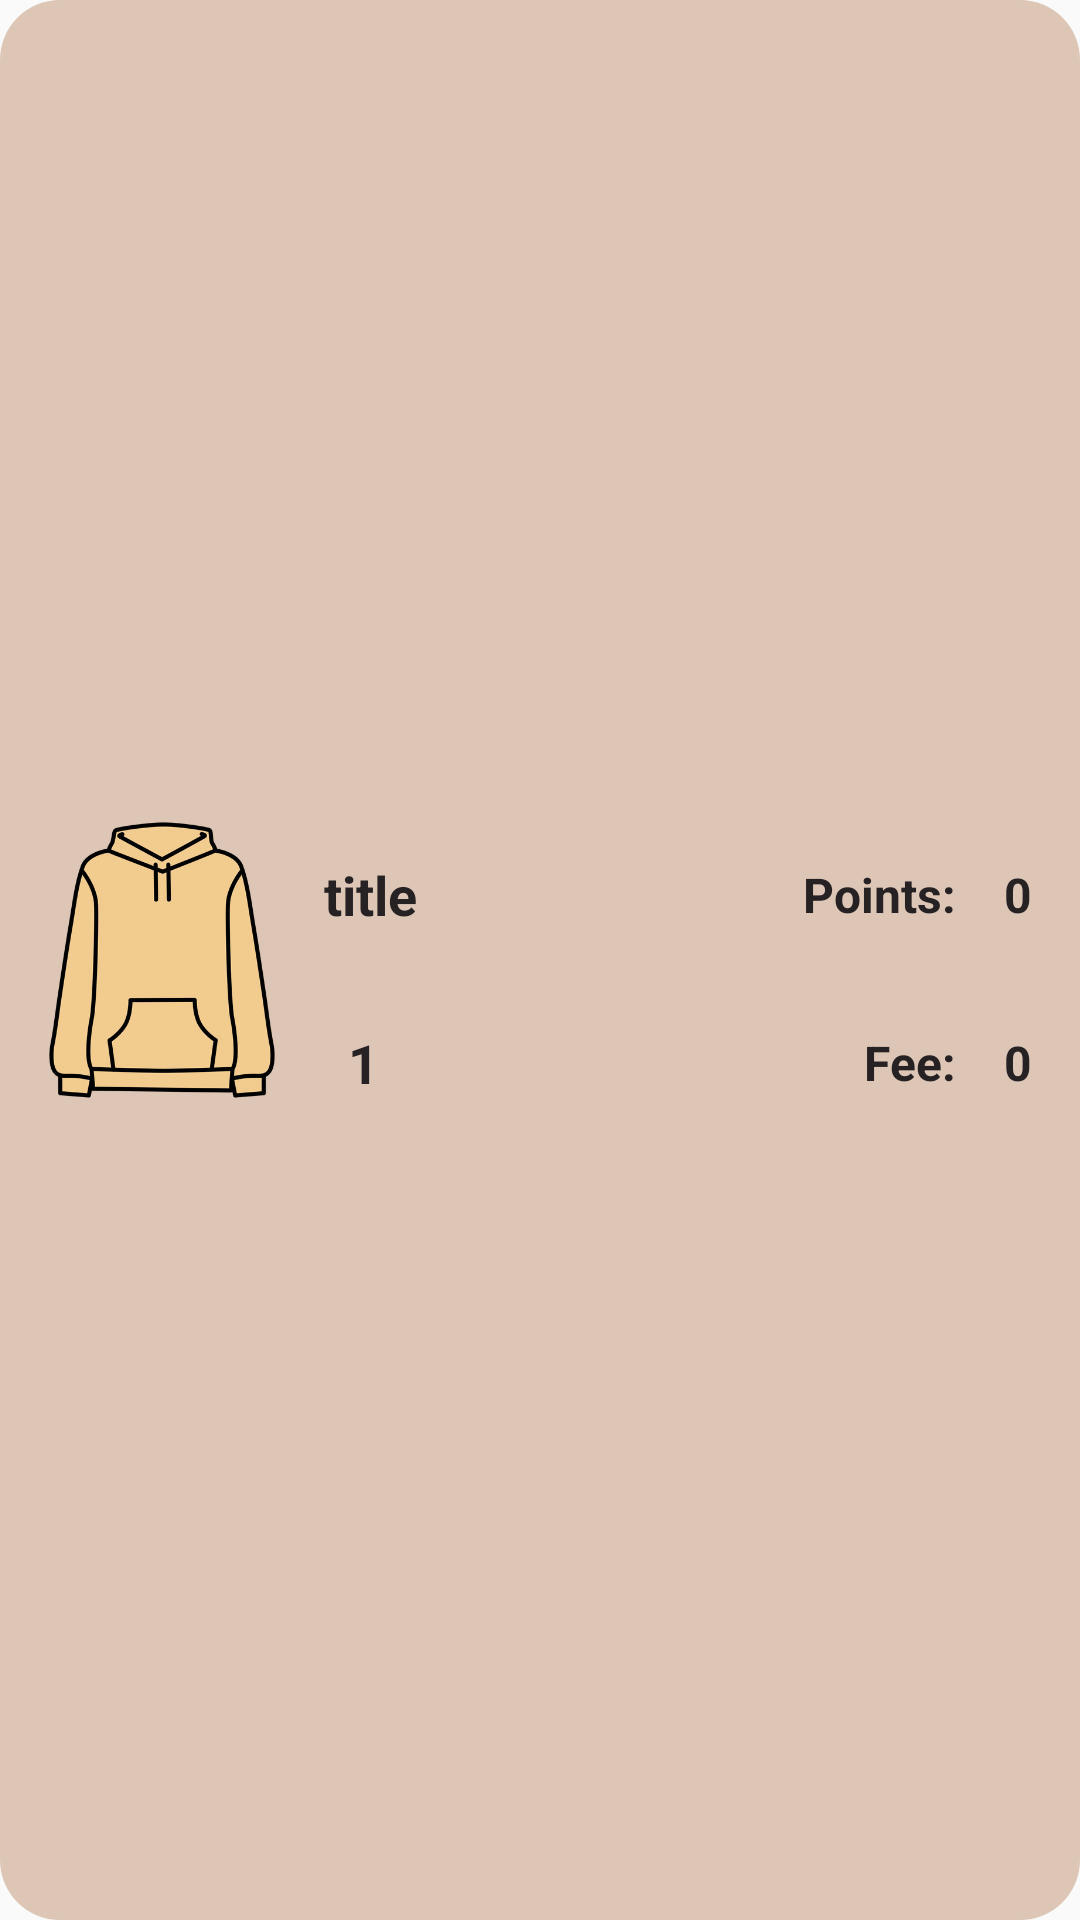

Icon bounding boxes for this 1080w x 1920h phone screenshot, format (x1, y1, x2, y2):
hoodeh: (49, 822, 275, 1098)
